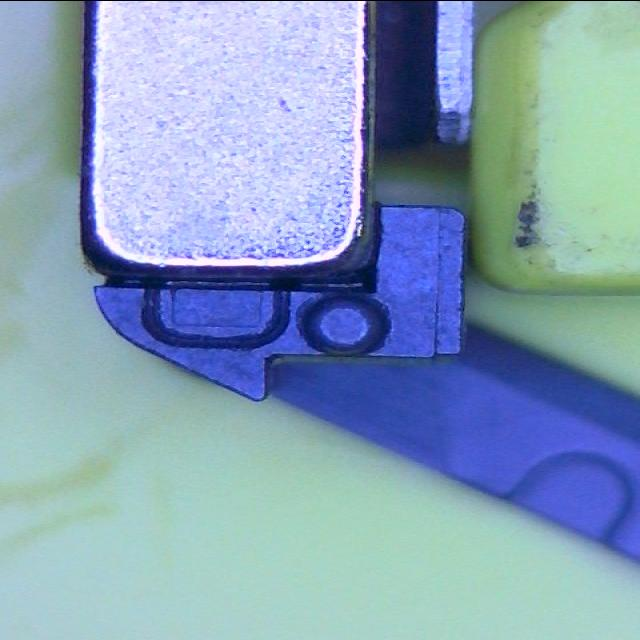lacking: (140, 280, 292, 350)
